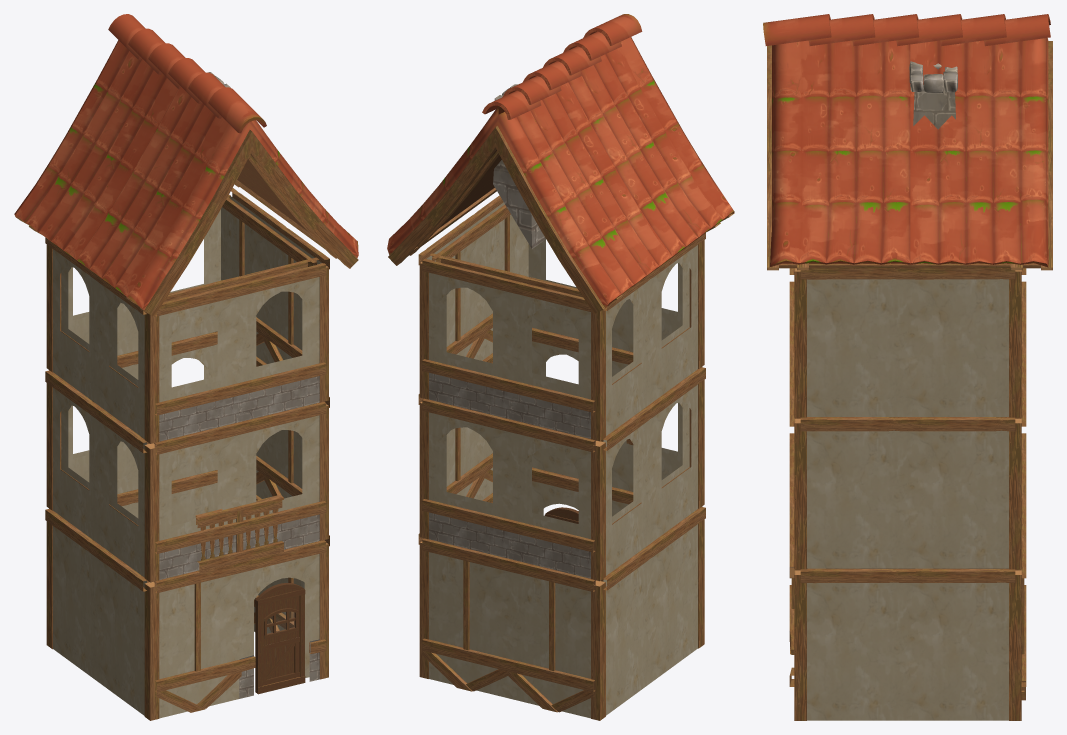
File: House_TallD.fbx
3 views of the same model, side by side, from view 1: azimuth 30°, elevation 25°; view 2: azimuth 150°, elevation 25°; view 3: azimuth 270°, elevation 25° (orthographic). The views are drawn at different scales.
Visible parts, largest first — view 1: House_TallD; view 2: House_TallD; view 3: House_TallD.
Boxes of the visible parts, x1,y1,x2,y2 form: House_TallD: (14, 14, 358, 720); House_TallD: (387, 14, 734, 720); House_TallD: (763, 14, 1052, 720).
Size of the model in its own units: 540 by 1352 by 540.
